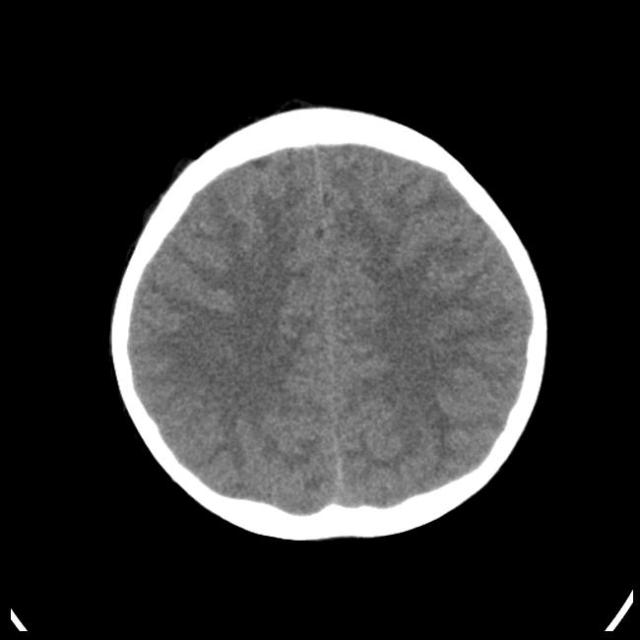lesion: (108, 103, 552, 542)
